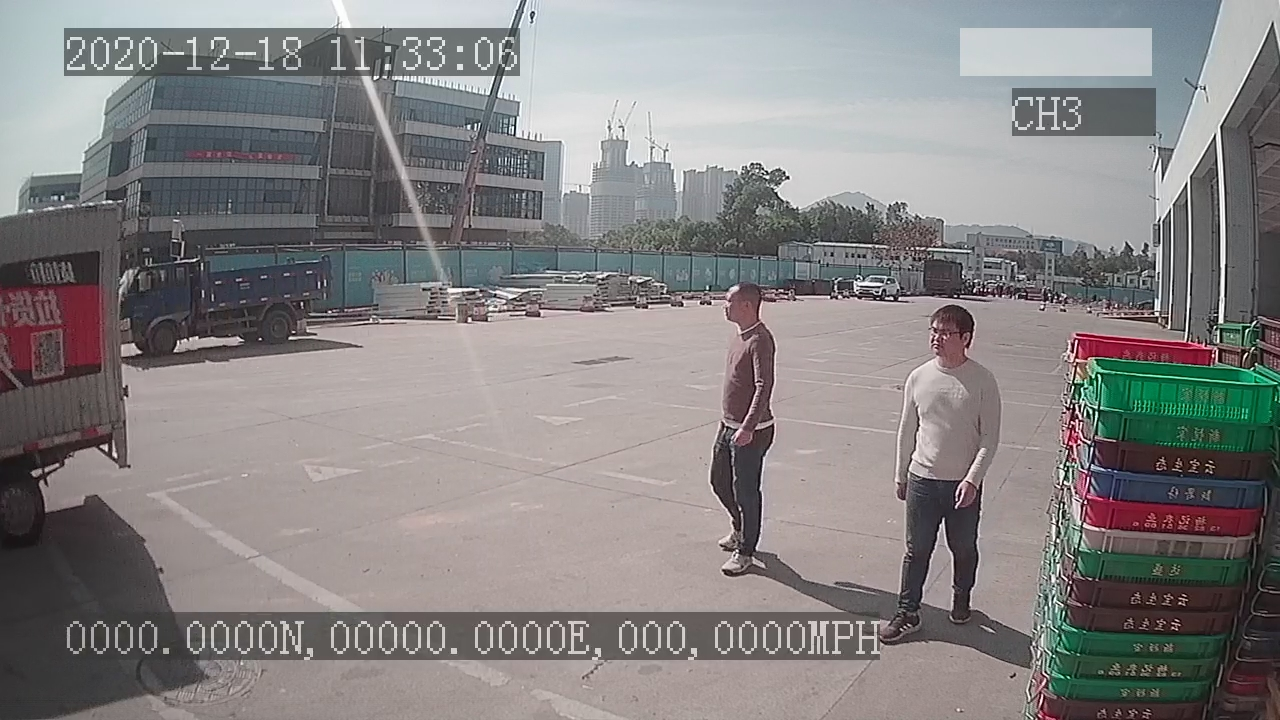person: (707, 273, 788, 581)
